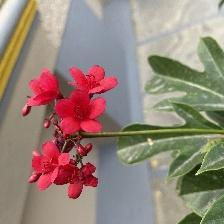jatropha: (54, 89, 109, 137), (26, 139, 71, 190), (67, 62, 123, 97), (58, 161, 104, 200), (28, 66, 63, 107)
